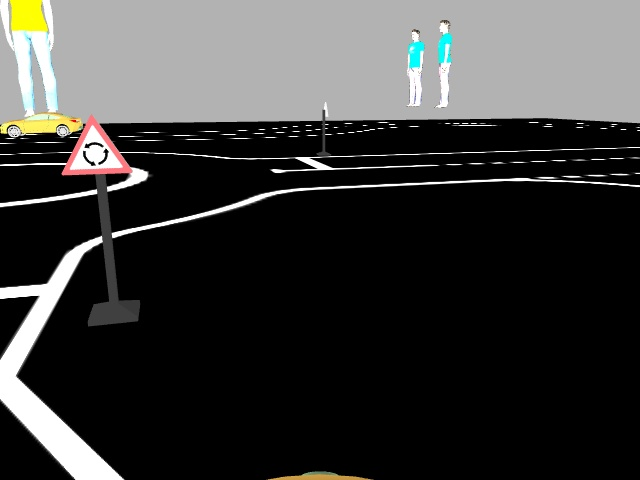Roundabout: (54, 113, 133, 173)
